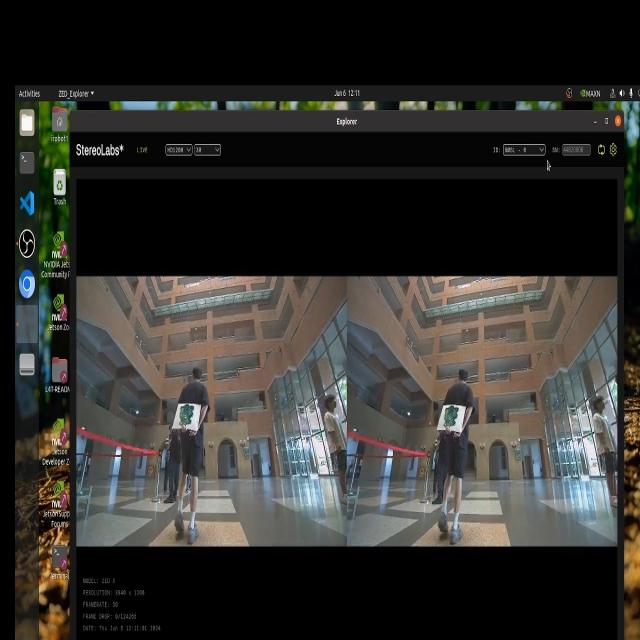green: (439, 405, 460, 441), (175, 401, 197, 428)
